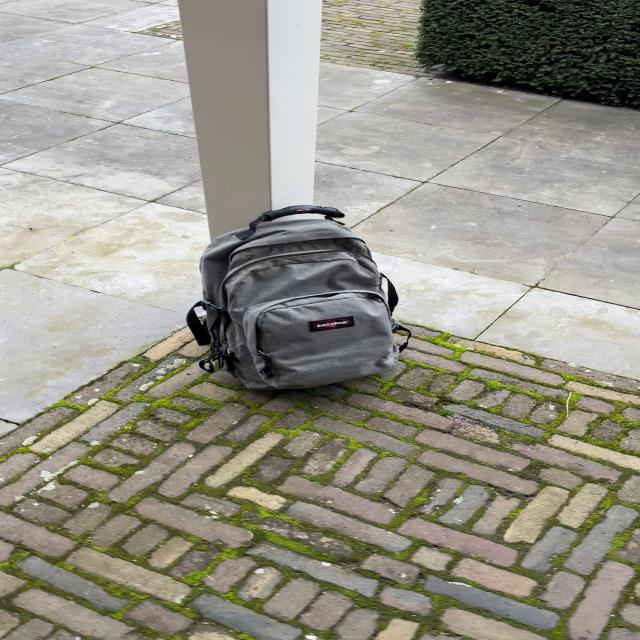backpack: (180, 198, 410, 401)
